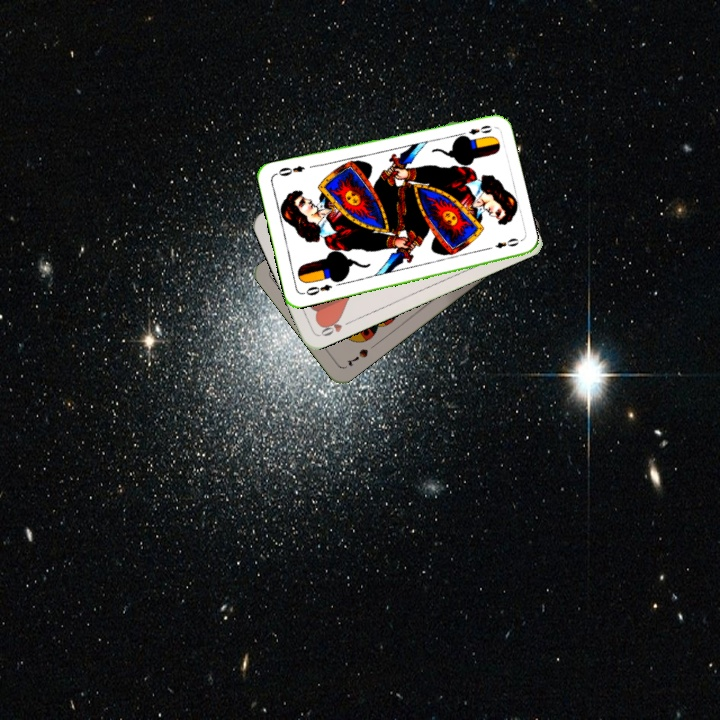EO: (455, 121, 495, 140), (299, 280, 334, 298)
HO: (316, 314, 354, 339)
S7: (343, 344, 371, 369)
